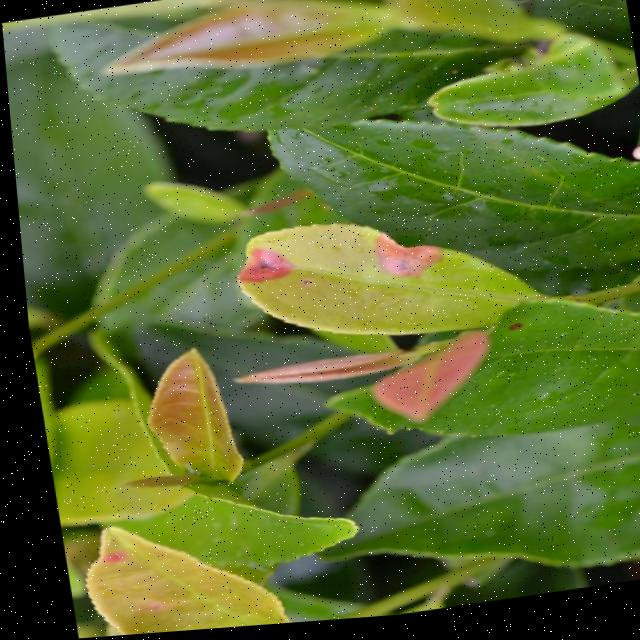Tea cake: (361, 223, 437, 286), (225, 243, 285, 290)
